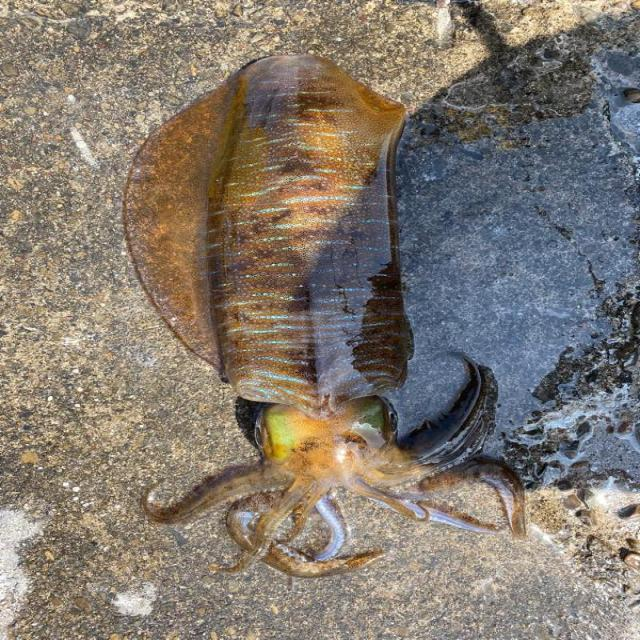SQUID: (79, 30, 533, 565)
